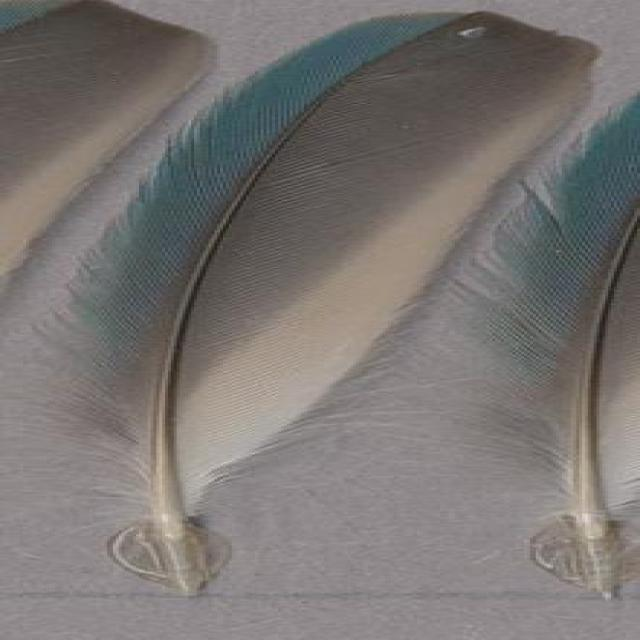feather: (25, 0, 608, 601), (351, 92, 640, 599)
